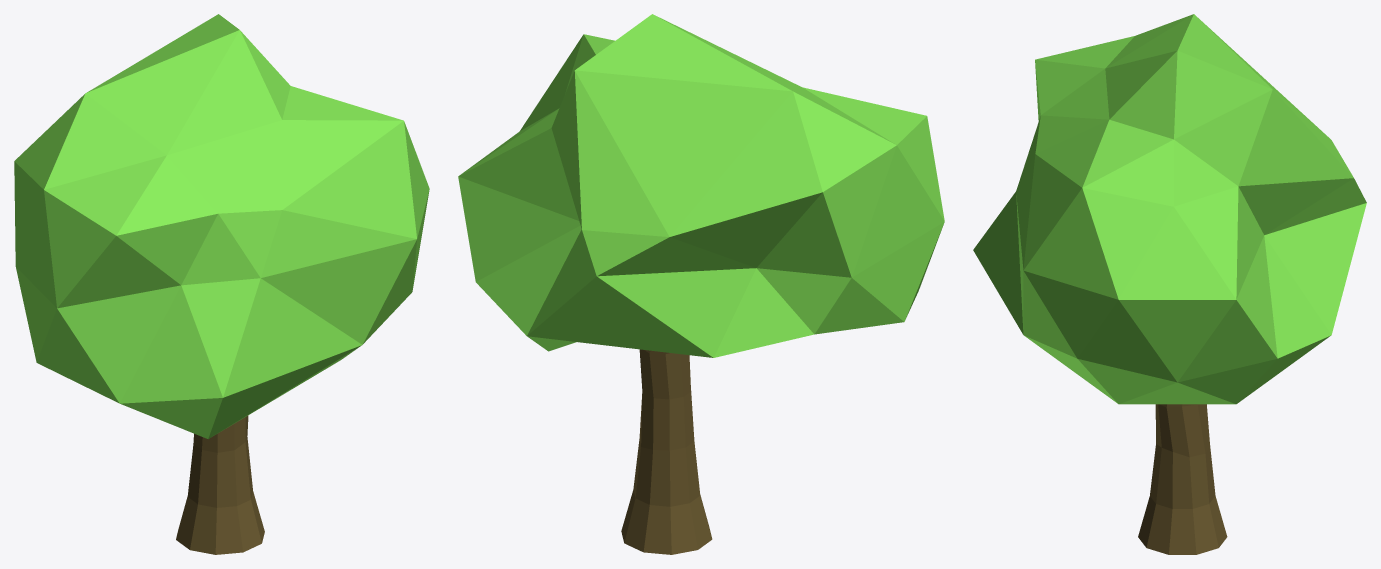
The model's file is Arv3.fbx.
The picture shows the model from 3 angles, left to right: view 1: azimuth 30°, elevation 25°; view 2: azimuth 150°, elevation 25°; view 3: azimuth 270°, elevation 25°; orthographic projection. The views are drawn at different scales.
Parts seen in each view (by area): view 1: Cylinder; view 2: Cylinder; view 3: Cylinder.
Boxes of the visible parts, box(x1,y1,x2,y2) form: Cylinder: box(14, 14, 429, 554); Cylinder: box(458, 14, 944, 554); Cylinder: box(973, 14, 1366, 554).
Bounding box in the file's own units: 1845 × 2253 × 1627.
